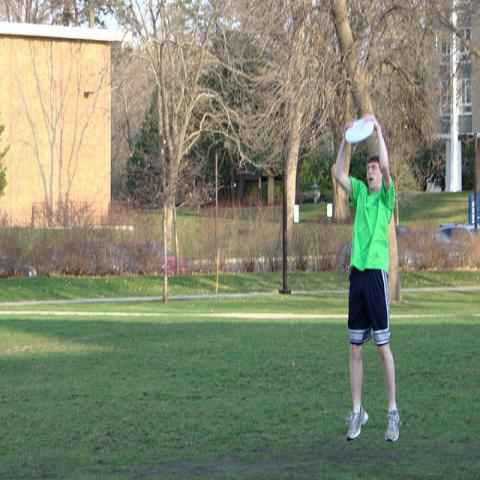car: (47, 235, 145, 278), (433, 225, 475, 267), (395, 226, 421, 267), (16, 266, 38, 277)
